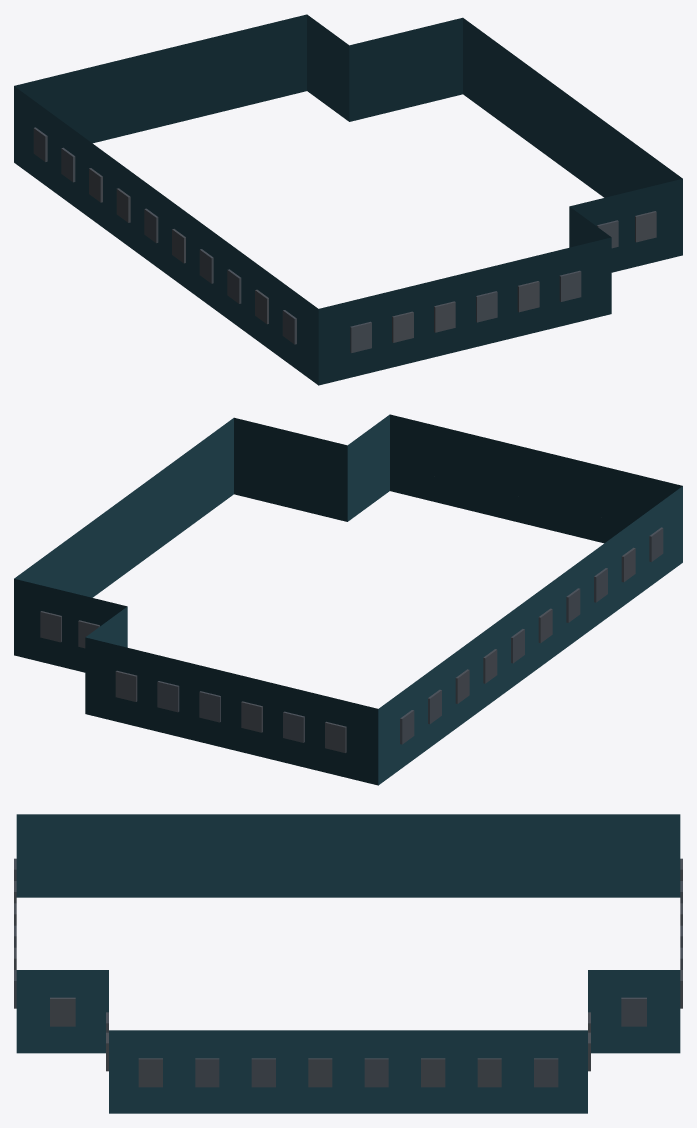
File: TB_CITY_Skysc_S_LowerBodyA_Blue.FBX
The picture shows the model from 3 angles, top to bottom: view 1: azimuth 30°, elevation 25°; view 2: azimuth 150°, elevation 25°; view 3: azimuth 270°, elevation 25°; orthographic projection. The views are drawn at different scales.
Parts seen in each view (by area): view 1: TB_CITY_Skysc_S_LowerBodyA_Blue; view 2: TB_CITY_Skysc_S_LowerBodyA_Blue; view 3: TB_CITY_Skysc_S_LowerBodyA_Blue.
Part boxes in pixels (x1,y1,x2,y2): TB_CITY_Skysc_S_LowerBodyA_Blue: [14, 14, 682, 385]; TB_CITY_Skysc_S_LowerBodyA_Blue: [14, 414, 682, 785]; TB_CITY_Skysc_S_LowerBodyA_Blue: [14, 814, 682, 1113].
Bounding box in the file's own units: 28.06 × 5 × 36.3.
